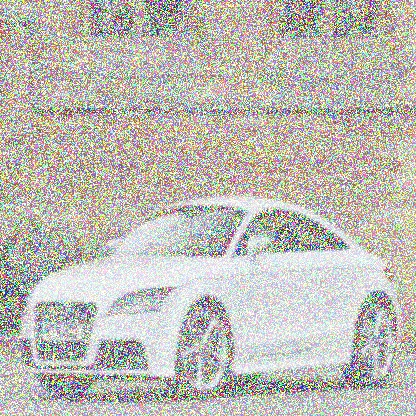Vehicle: (17, 197, 399, 405)
